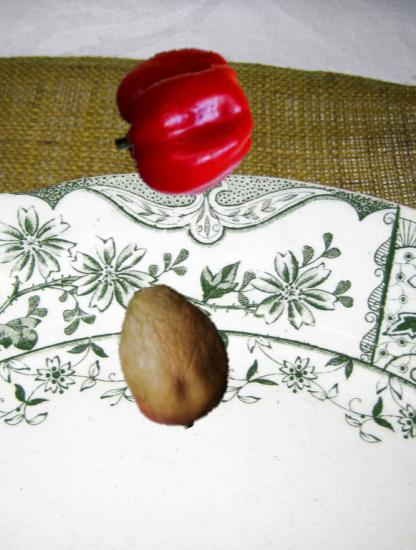Papaya: (99, 282, 246, 429)
Pepper: (107, 48, 257, 198)
